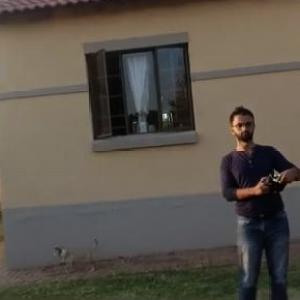follow: (213, 98, 299, 299)
null: (50, 228, 101, 276)
